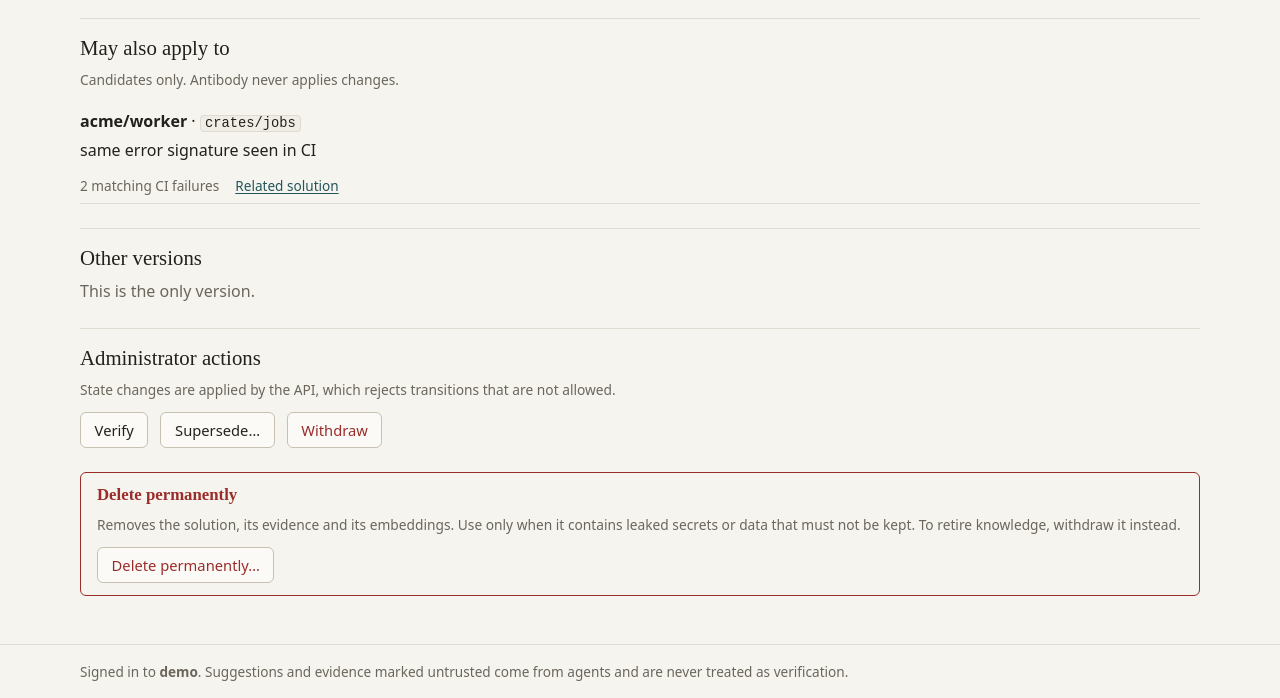
it: solution detail › shows a 409 from the API instead of re-implementing the state machine
This screenshot has width=1280, height=698.
(page scrolled)
Click the button "Verify": (114, 430) [80, 412, 148, 448]
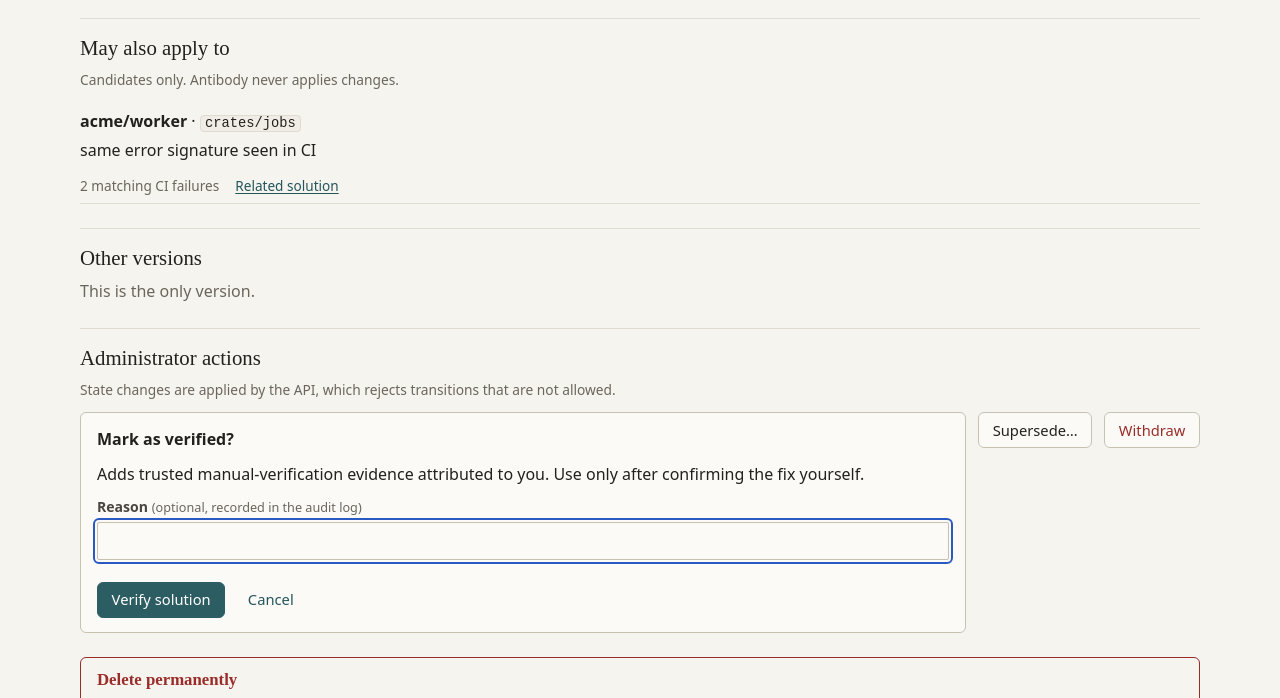
Click the button "Verify solution": (161, 600) [97, 582, 225, 618]
(page scrolled)
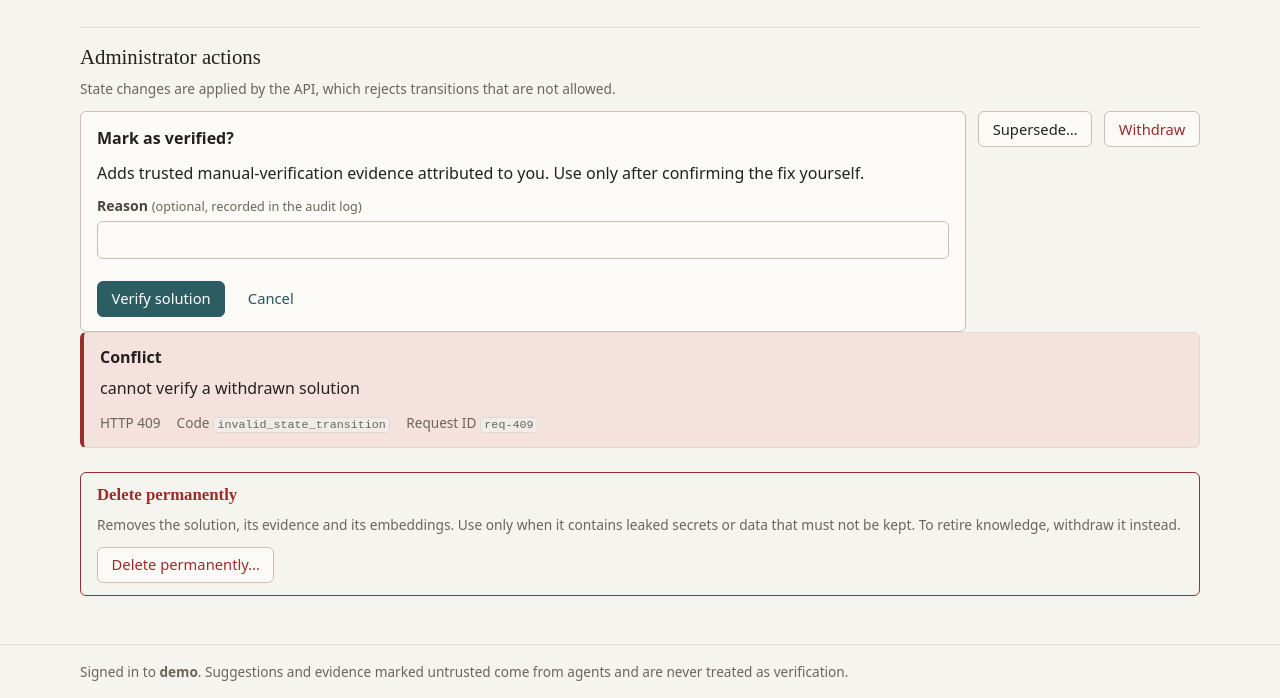
Expected: the message shows "cannot verify a withdrawn solution", [100, 377, 360, 399]
Expected: the message shows "req-409", [484, 418, 534, 432]
